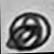correct: (2, 9, 53, 50)
